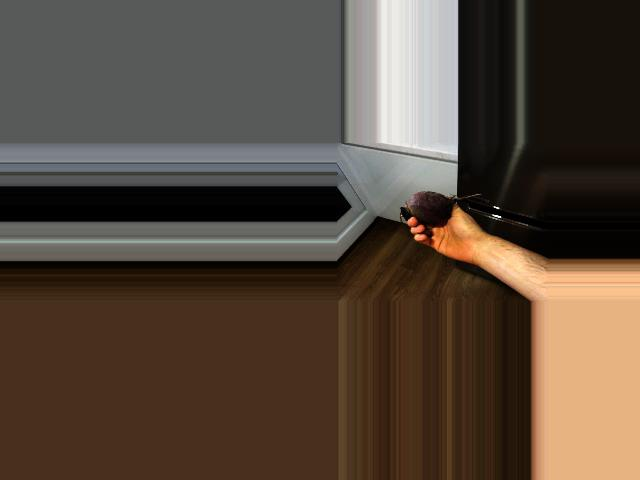beet: (399, 191, 480, 223)
